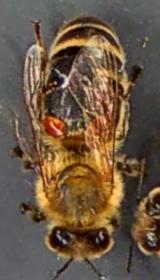varroa_mite: (38, 114, 74, 136), (90, 110, 114, 136)
